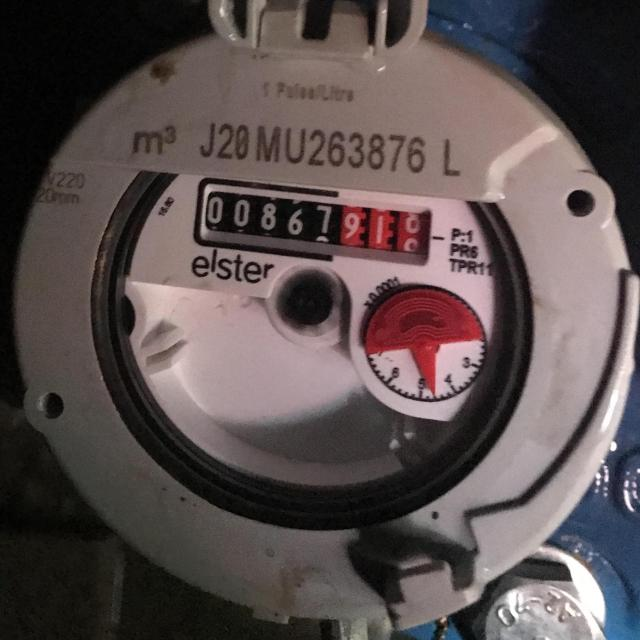gaz_meter: (123, 143, 500, 485)
indication: (199, 184, 433, 260)
